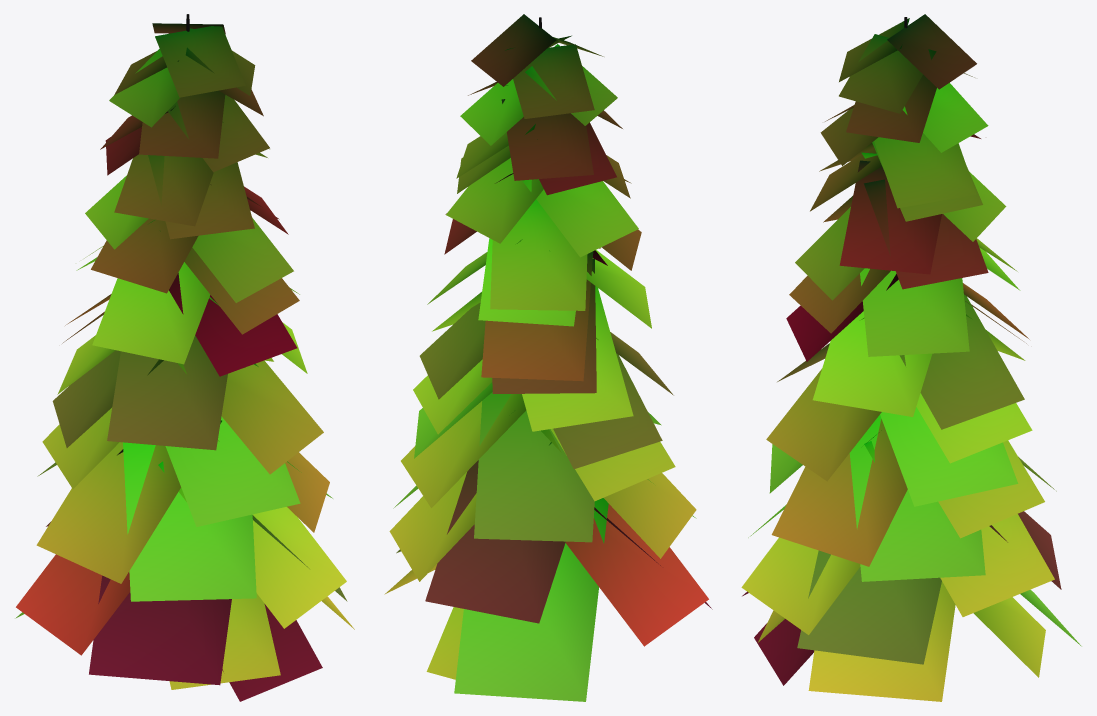
Rendered from Tree_4.fbx.
3 renders of one model, left to right at view 1: azimuth 30°, elevation 25°; view 2: azimuth 150°, elevation 25°; view 3: azimuth 270°, elevation 25°, orthographic. The views are drawn at different scales.
Parts seen in each view (by area): view 1: Tree_4; view 2: Tree_4; view 3: Tree_4.
Boxes of the visible parts, x1,y1,x2,y2 form: Tree_4: (15,14,354,701); Tree_4: (384,14,712,701); Tree_4: (741,14,1081,701).
Bounding box in the file's own units: 836 × 1796 × 873.
